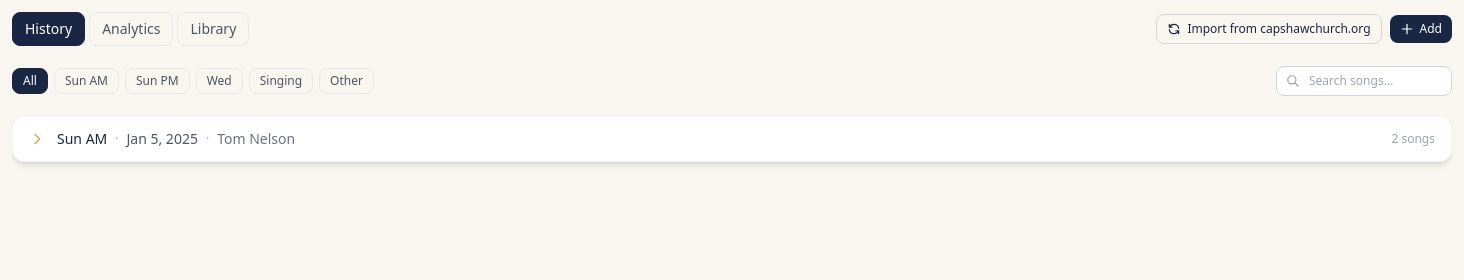
Scenario: SongTrackerView — a service record › an admin can refresh the songs from the server
The image size is (1464, 280).
Click the text "Tom Nelson".
click(256, 139)  # box [217, 129, 295, 149]
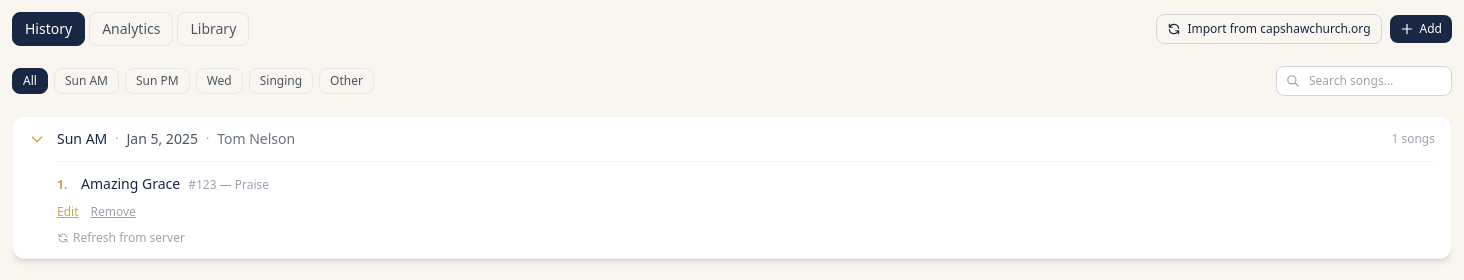
Expected: the text "Amazing Grace" is shown, [81, 174, 180, 194]
Click the button "Refresh from server".
click(121, 238)  # box [57, 230, 185, 246]
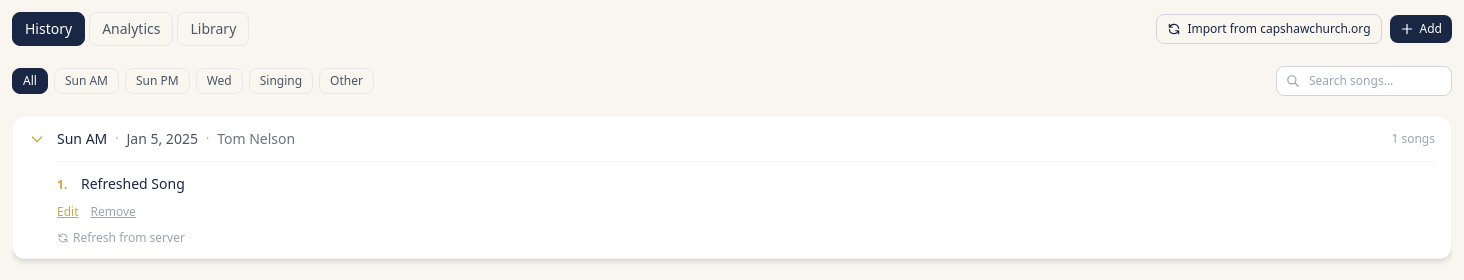
Expected: the text "Refreshed Song" is shown, [81, 174, 185, 194]
